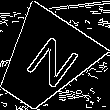N_SW: (11, 30, 77, 94)
